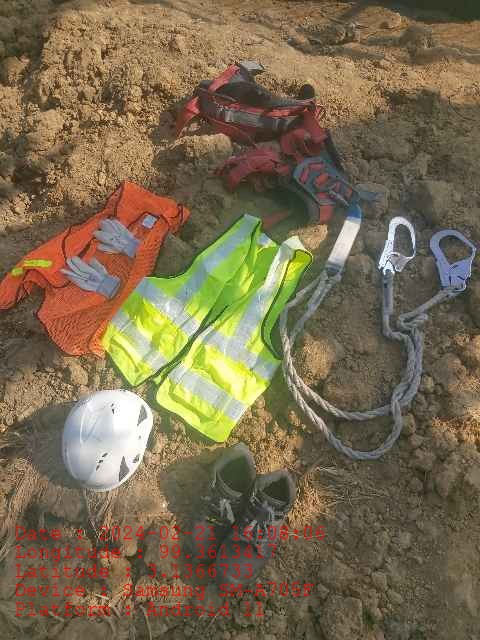HELM: (62, 389, 152, 491)
